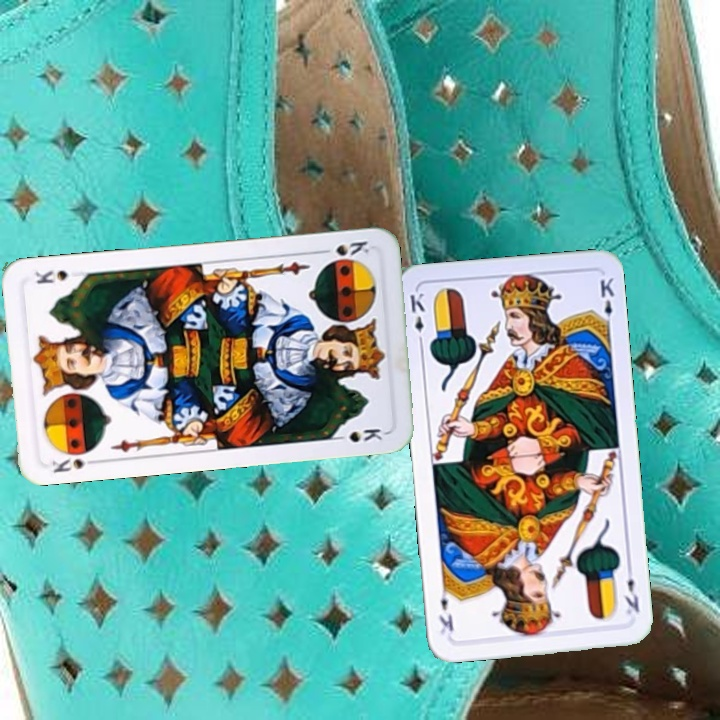EK: (619, 562, 642, 617), (406, 288, 427, 348)
SK: (47, 453, 102, 476), (314, 237, 372, 258)
